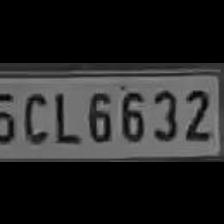2: (178, 83, 212, 143)
3: (148, 83, 180, 141)
6: (81, 85, 113, 143), (116, 85, 146, 143), (1, 92, 18, 144)
C: (18, 86, 48, 144)
L: (48, 85, 80, 145)
